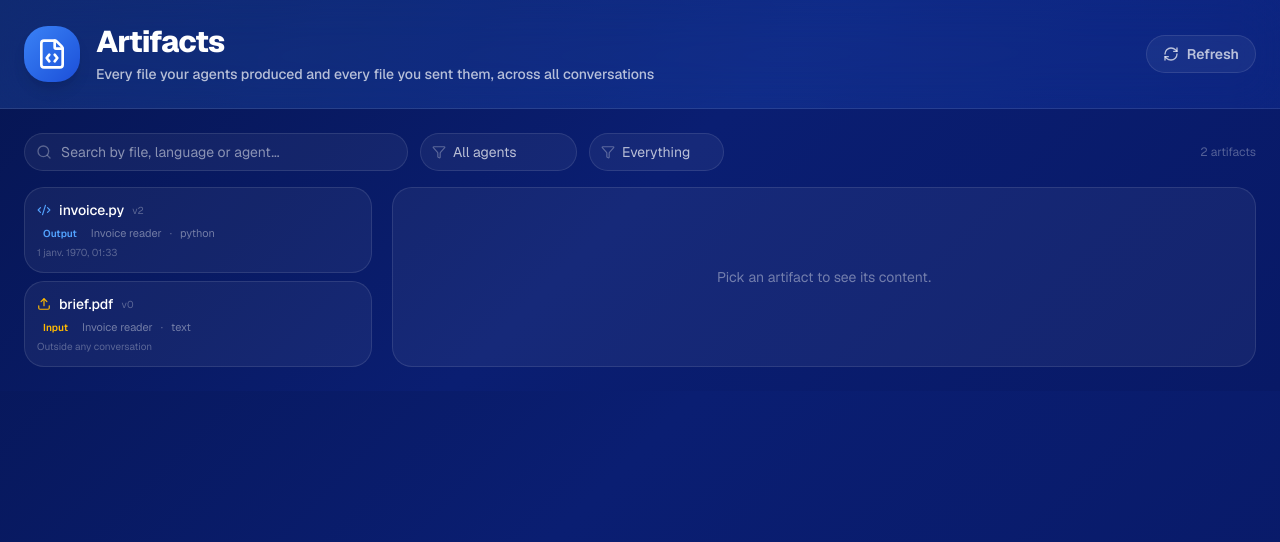
ArtifactsLibrary › filters the list down to uploads
Check: the text "brief.pdf" is shown, box [59, 294, 114, 314]
// Two selects in the filter bar, in order: agent, then kind.
Select "Input" in the 2nd dropdown: [656, 152] box [589, 133, 724, 171]
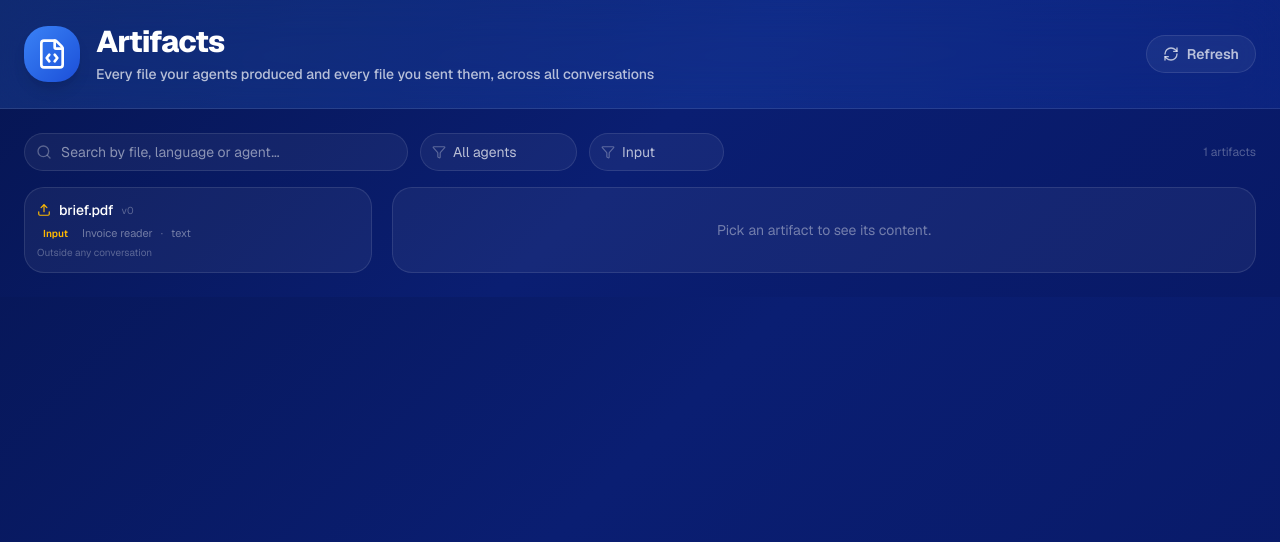
Check: the text "brief.pdf" is shown, box [59, 200, 114, 220]
Check: the button "invoice.py" is gone
